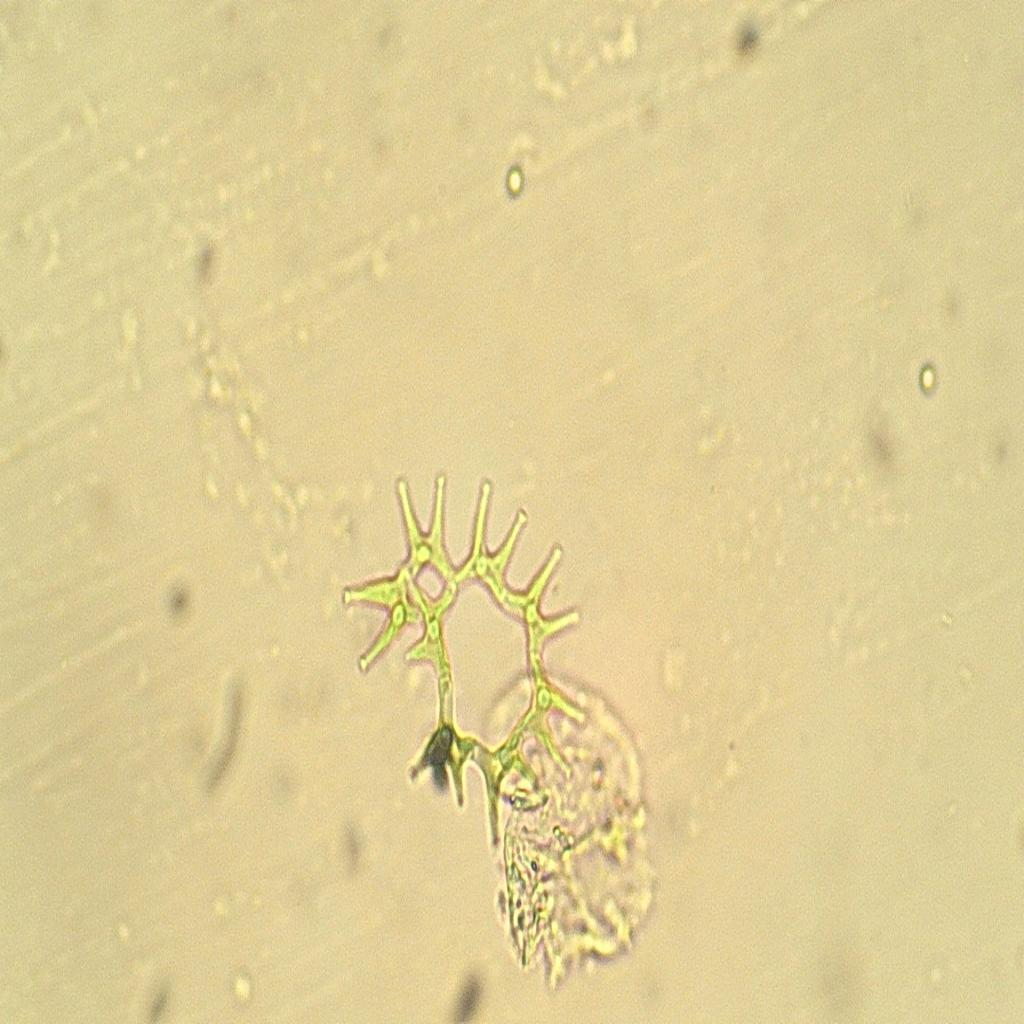Pediastrum_CFI: (335, 447, 599, 859)
